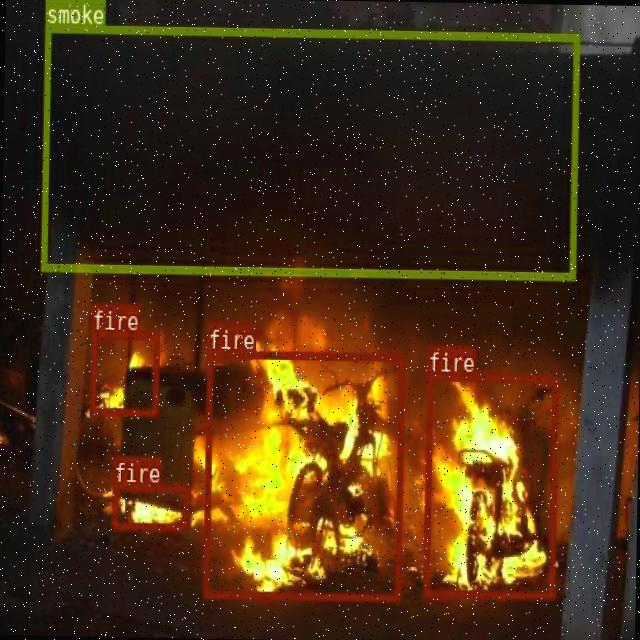fire: (202, 348, 404, 599), (422, 372, 556, 598), (89, 329, 158, 414), (110, 482, 187, 530)
smoke: (41, 23, 578, 278)
